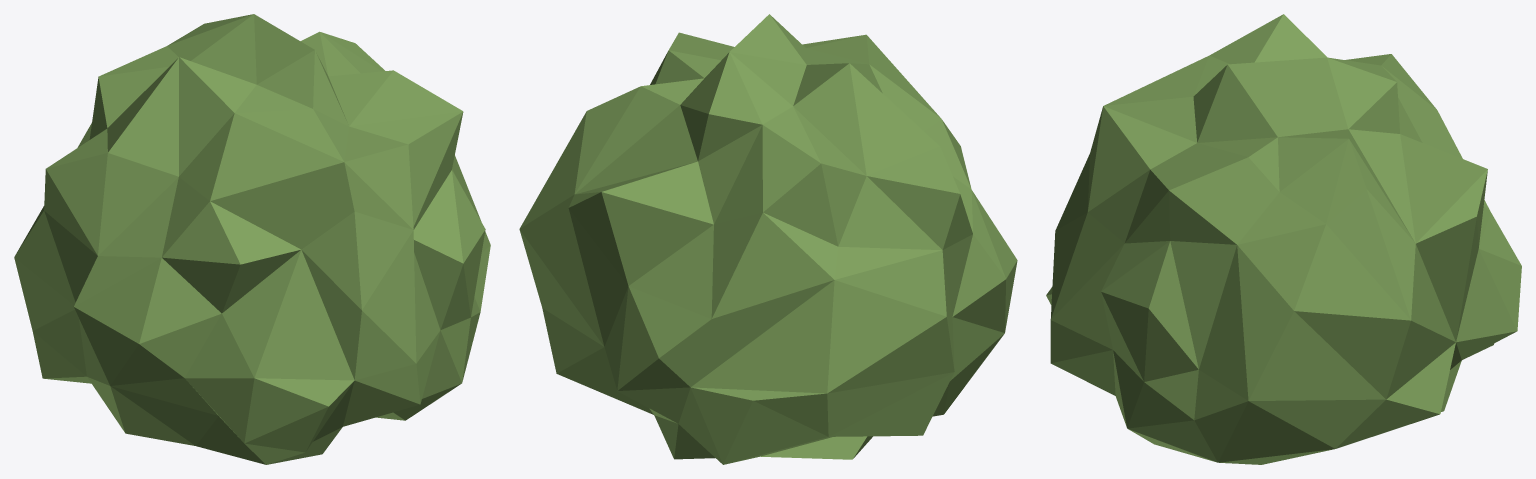
File: Bush.fbx
3 renders of one model, left to right at view 1: azimuth 30°, elevation 25°; view 2: azimuth 150°, elevation 25°; view 3: azimuth 270°, elevation 25°, orthographic.
Parts seen in each view (by area): view 1: Icosphere; view 2: Icosphere; view 3: Icosphere.
Boxes of the visible parts, left/top/right/bottom form: Icosphere: left=14, top=14, right=490, bottom=464; Icosphere: left=519, top=14, right=1017, bottom=464; Icosphere: left=1046, top=14, right=1521, bottom=464.
Size of the model in its own units: 199 by 161 by 195.
